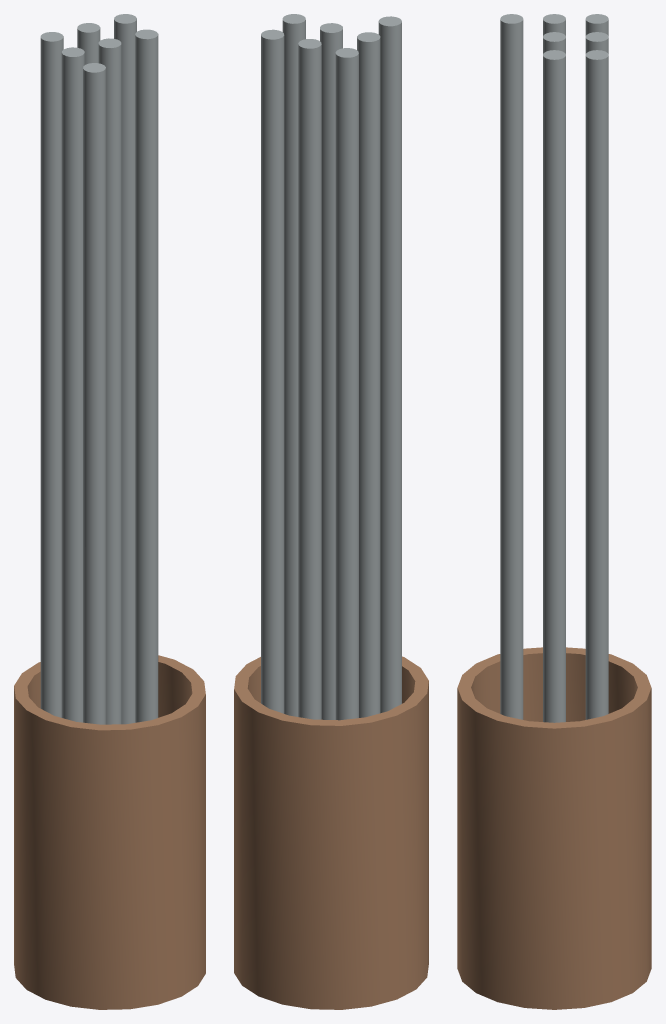
Rendered from scavengers-loot-library-welding-rods-8a3548e6__2603.glb.
3 views of the same model, side by side, from view 1: azimuth 30°, elevation 25°; view 2: azimuth 150°, elevation 25°; view 3: azimuth 270°, elevation 25° (orthographic).
Visible parts, largest first — view 1: welding-rods; view 2: welding-rods; view 3: welding-rods.
Boxes of the visible parts, box(x1,y1,x2,y2) form: welding-rods: box(14, 14, 205, 1009); welding-rods: box(234, 14, 428, 1009); welding-rods: box(457, 14, 651, 1009).
Bounding box in the file's own units: 0.05 × 0.265 × 0.05.
